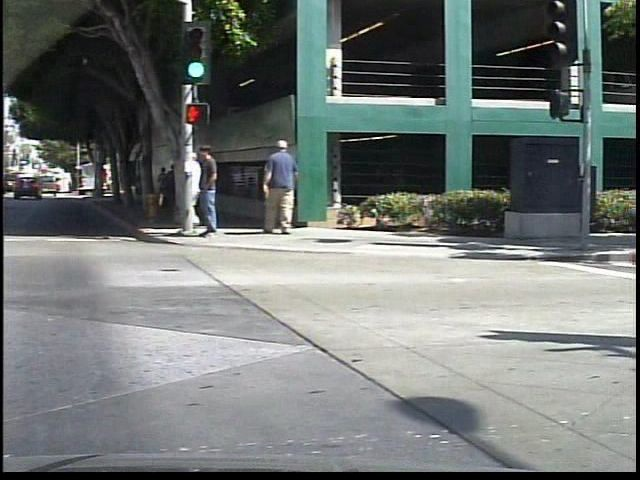person: (260, 139, 313, 237), (192, 139, 231, 245), (185, 148, 211, 231), (170, 164, 184, 220)
